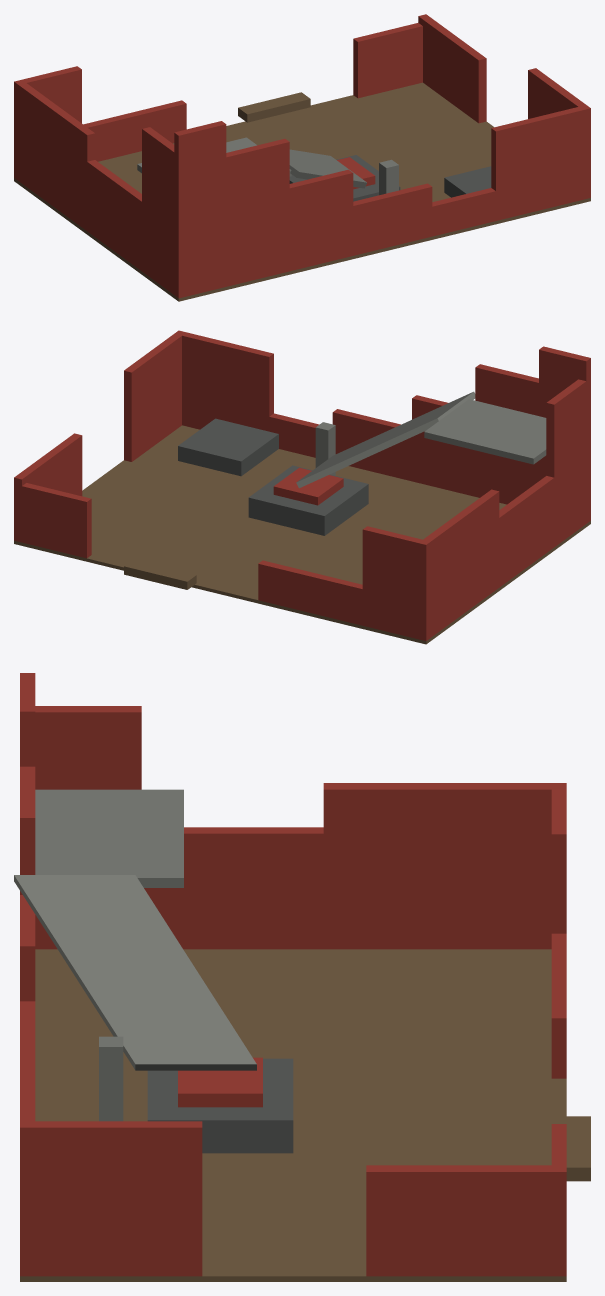
The model's file is ruin_lod1.glb.
3 views of the same model, one above another, from view 1: azimuth 30°, elevation 25°; view 2: azimuth 150°, elevation 25°; view 3: azimuth 270°, elevation 25° (orthographic). The views are drawn at different scales.
Visible parts, largest first — view 1: ruin_lod1; view 2: ruin_lod1; view 3: ruin_lod1.
Boxes of the visible parts, x1,y1,x2,y2 form: ruin_lod1: (14,14,590,301); ruin_lod1: (14,330,590,644); ruin_lod1: (14,673,590,1281).
Size of the model in its own units: 13 by 5 by 9.5.
1 material, 1 textured.
